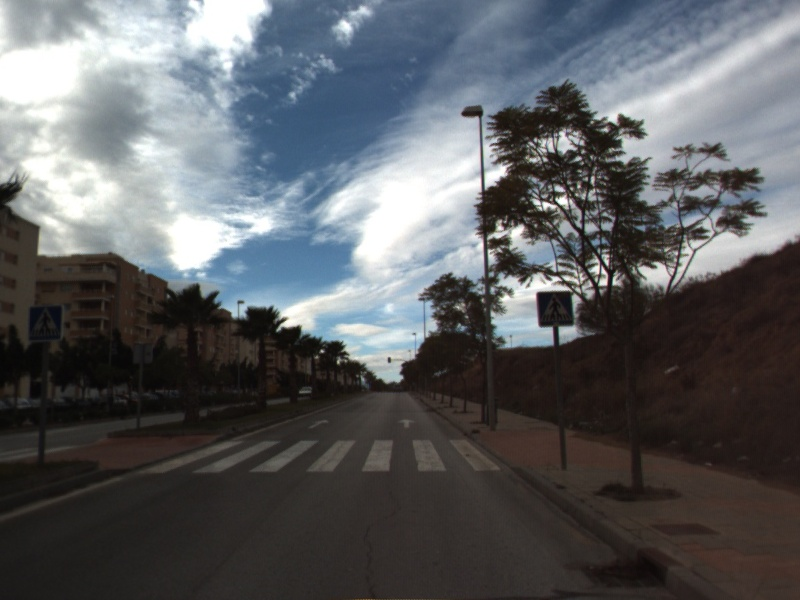STRAIGHT: (306, 417, 331, 430), (396, 417, 418, 430)
